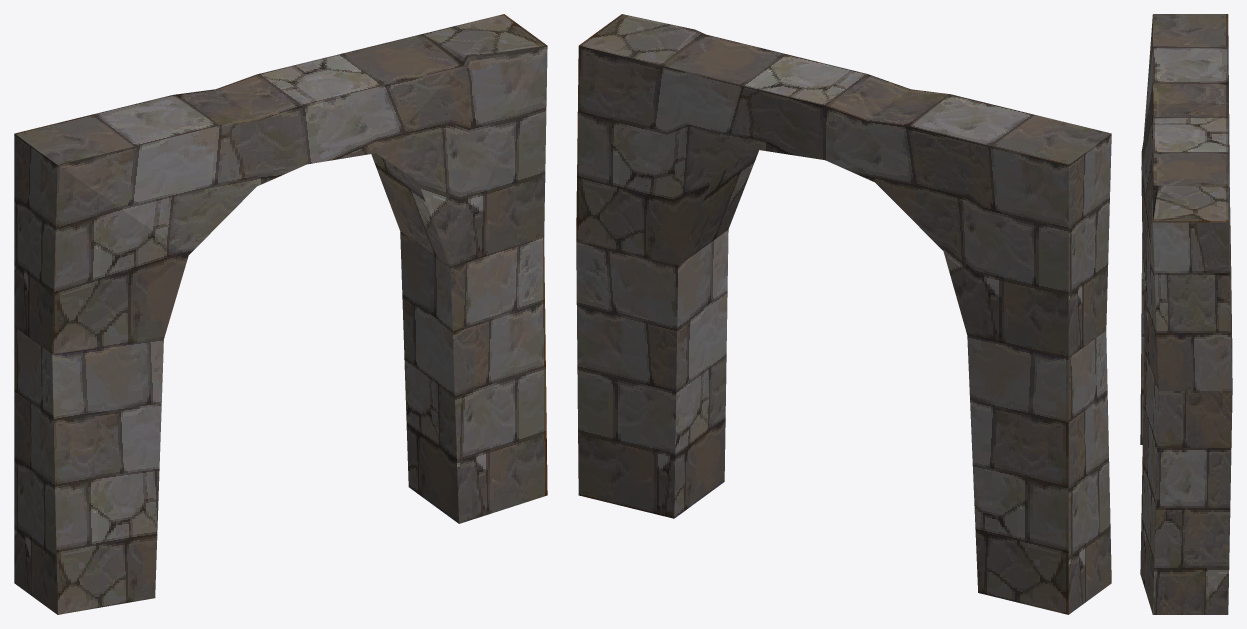
File: item_castle_archway.glb
The picture shows the model from 3 angles, left to right: view 1: azimuth 30°, elevation 25°; view 2: azimuth 150°, elevation 25°; view 3: azimuth 270°, elevation 25°; orthographic projection. The views are drawn at different scales.
Parts seen in each view (by area): view 1: Archway; view 2: Archway; view 3: Archway.
Part boxes in pixels (x1,y1,x2,y2): Archway: (14,14,547,614); Archway: (576,14,1111,614); Archway: (1140,14,1232,614).
Size of the model in its own units: 1.93 by 1.71 by 0.3597.
Materials: 1 (1 with a texture image).
